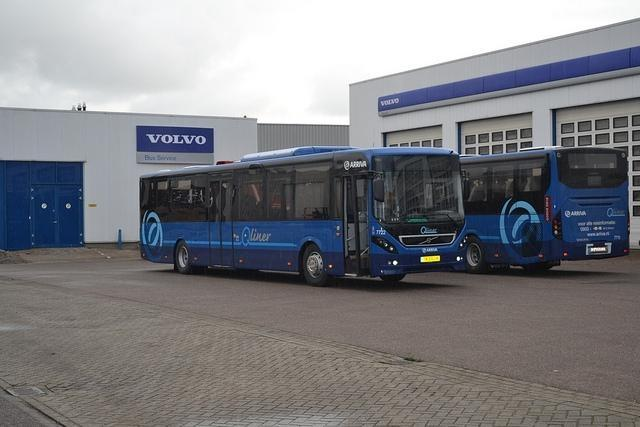bus: (140, 150, 468, 286), (458, 146, 628, 276)
